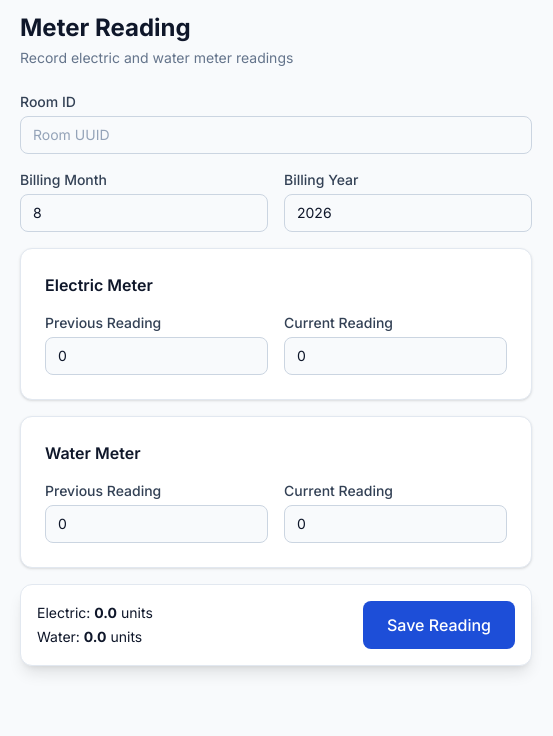
Test: MeterReadingPage › shows error when water current < previous
In the field labelled "Room ID": (276, 135) [20,116,532,154], type "room-1"
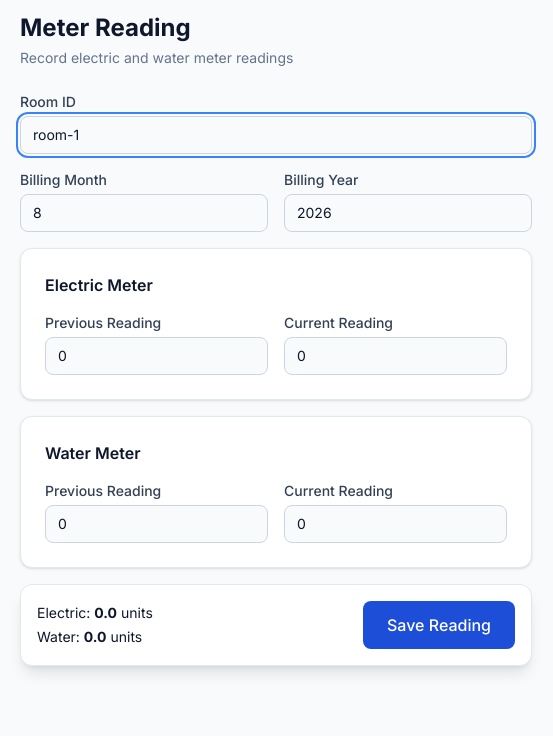
Note: Set electric values valid
Replace the text in the number field labelled "Previous Reading" below "Electric Meter" with "100": (156, 356) [45,337,268,375]
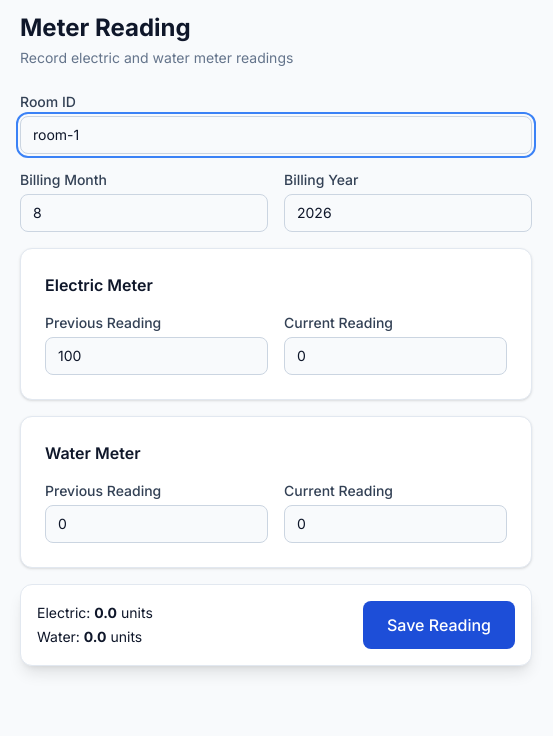
Replace the text in the number field labelled "Current Reading" below "Electric Meter" with "150": (396, 356) [284,337,507,375]
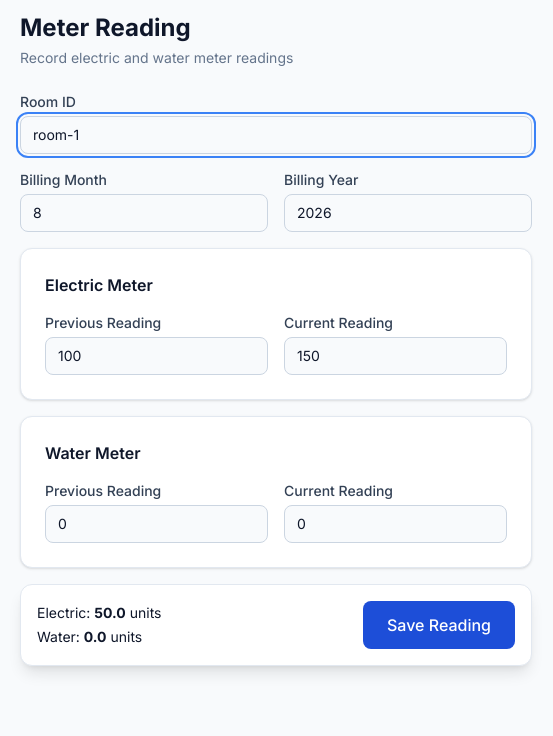
Note: Set water previous to 100, current to 50 (less than previous)
Replace the text in the 2nd number field labelled "Previous Reading" with "100": (156, 524) [45,505,268,543]
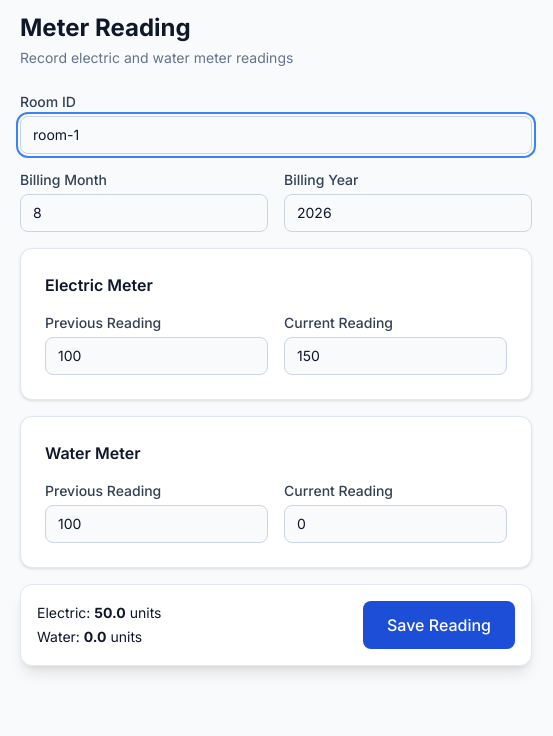
Replace the text in the 2nd number field labelled "Current Reading" with "50": (396, 524) [284,505,507,543]
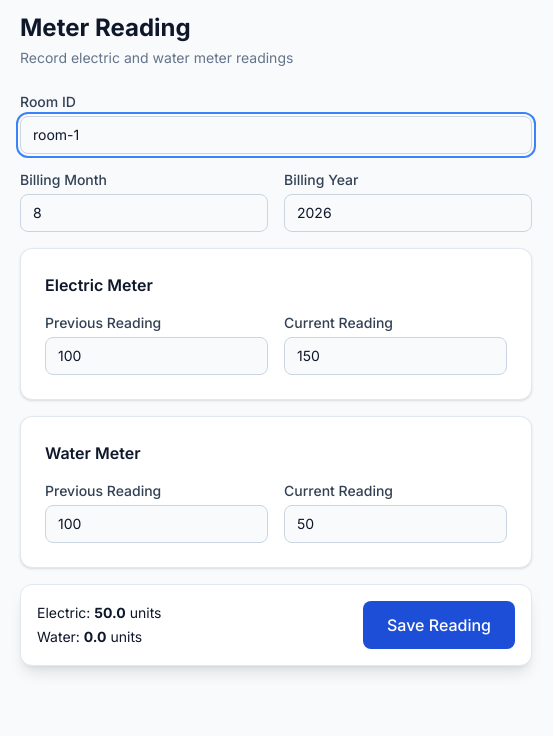
Click the button "Save Reading": (439, 625) [363,601,515,649]
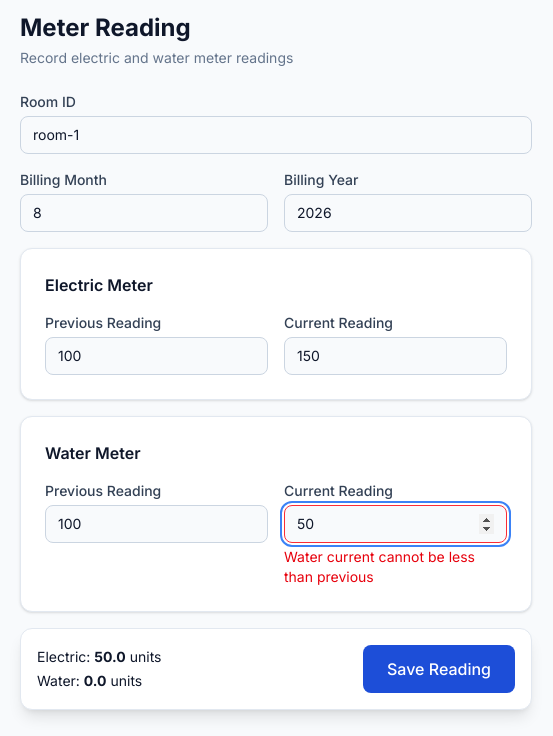
Expected: the text "Water current cannot be less than previous" is shown, [284,547,507,587]
